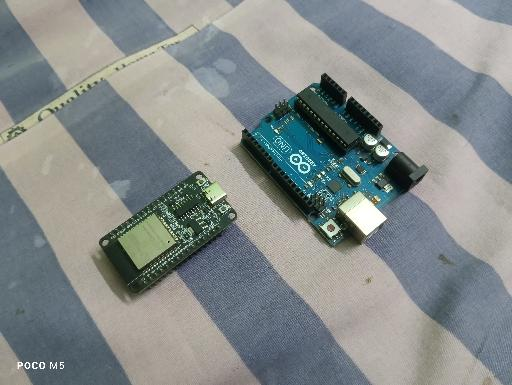Arduino: (239, 72, 428, 247)
Esp32: (99, 170, 238, 295)
